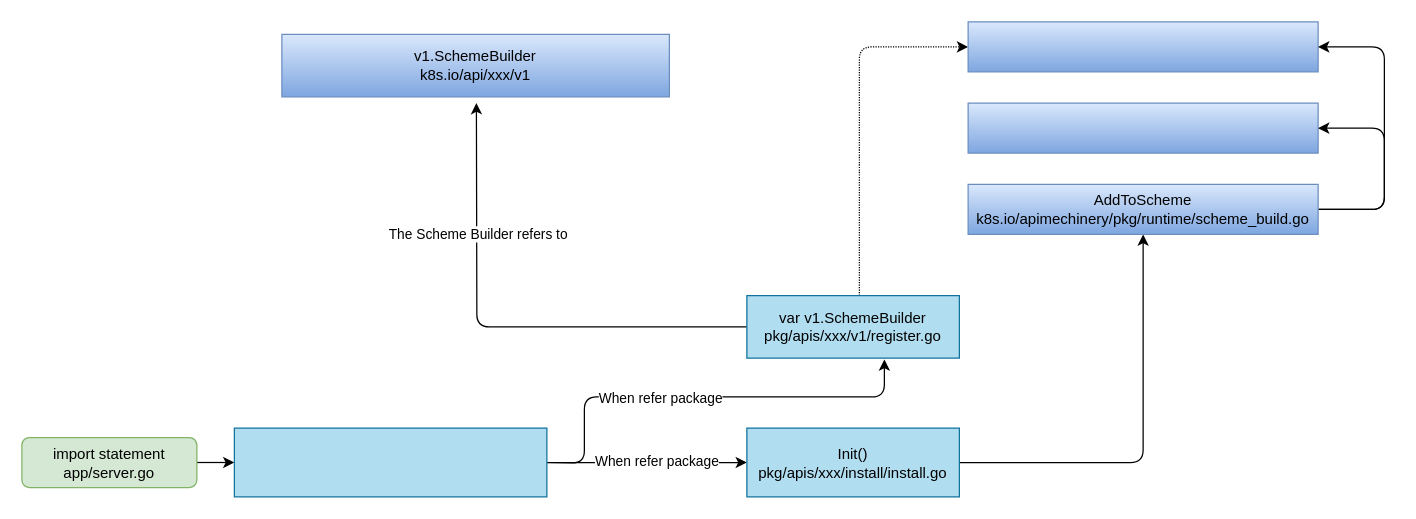
This 1416x519 diagram has some shape labels left out. Each missing label, with the centre of its shape:
"addConversionFuncs k8s.io/api/xxx/v1/conversion.go" goes at pixel 1142 46.
"addDefaultingFuncs k8s.io/api/xxx/v1/defaults.go" goes at pixel 1142 127.
"import statement pkg/controllerplane/inport_known_versions.go" goes at pixel 390 462.
